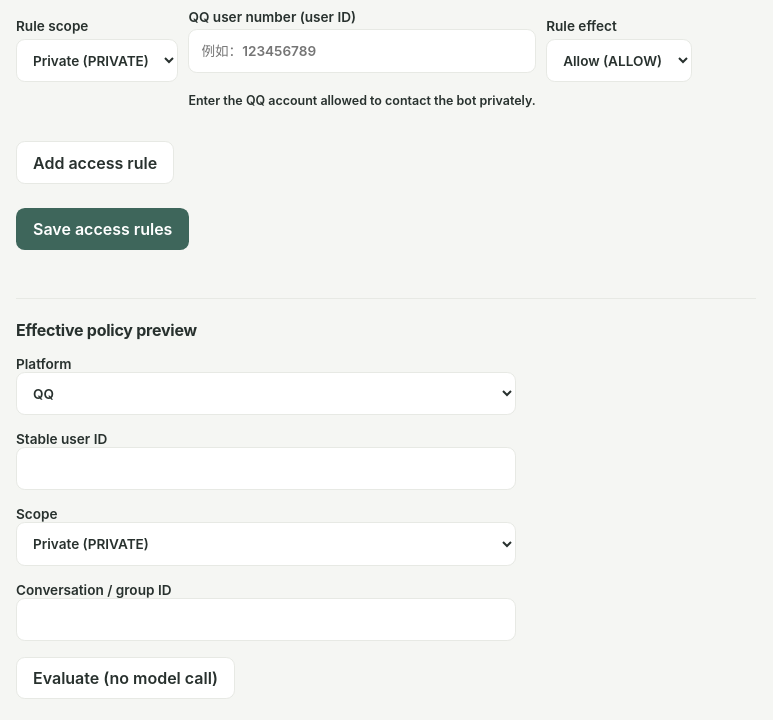
safe operational console states › Access ignores an older response when a newer query replaces it
(page scrolled)
Check: the button "Save access rules" is enabled, box x1=16 y1=208 x2=189 y2=250
Click the button "Evaluate (no model call)" at (126, 678), box x1=16 y1=657 x2=235 y2=699
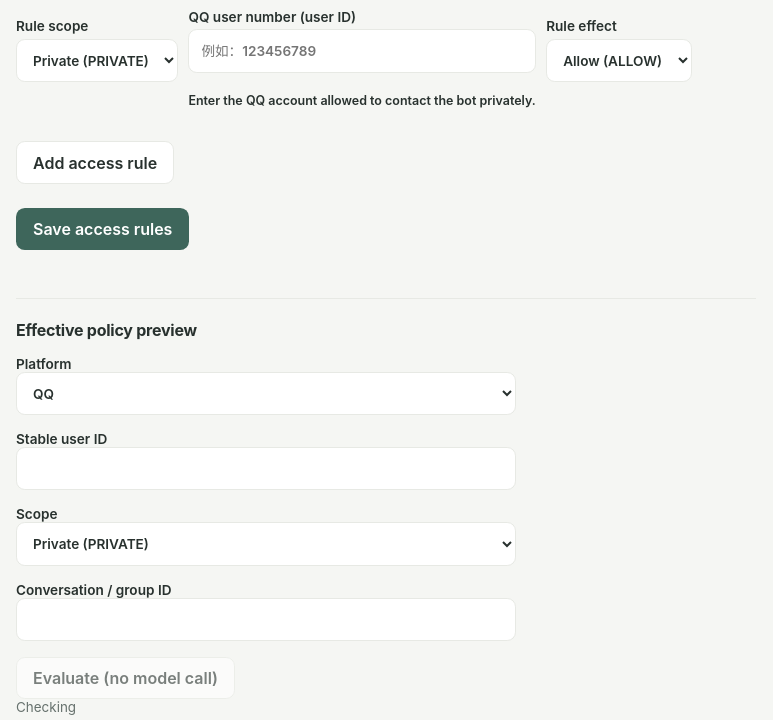
Type "second" into the field labelled "Stable user ID" at (266, 469), box x1=16 y1=447 x2=516 y2=490
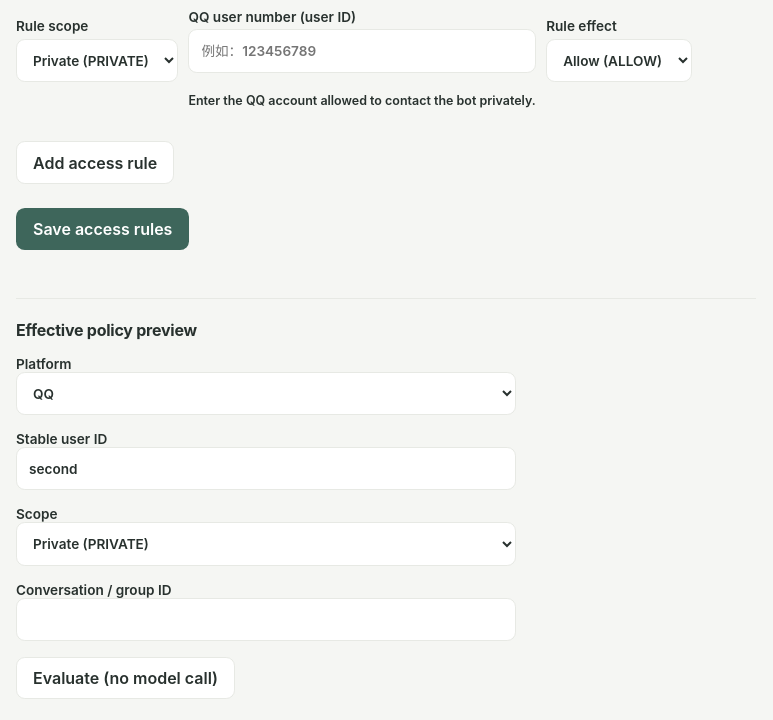
Click the button "Evaluate (no model call)" at (126, 678), box x1=16 y1=657 x2=235 y2=699
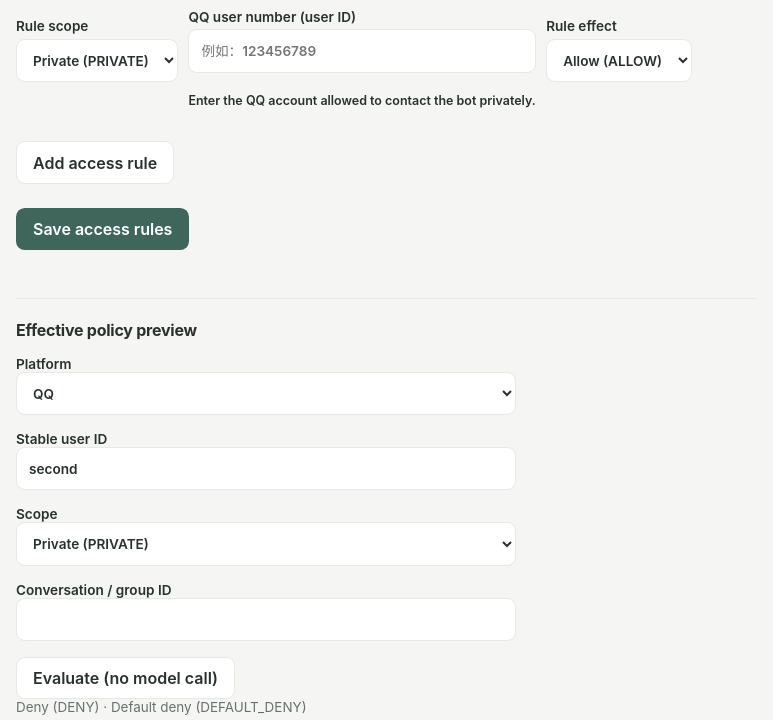
Check: the text "Deny (DENY) · Default deny (DEFAULT_DENY)" is shown, box x1=16 y1=699 x2=306 y2=715
